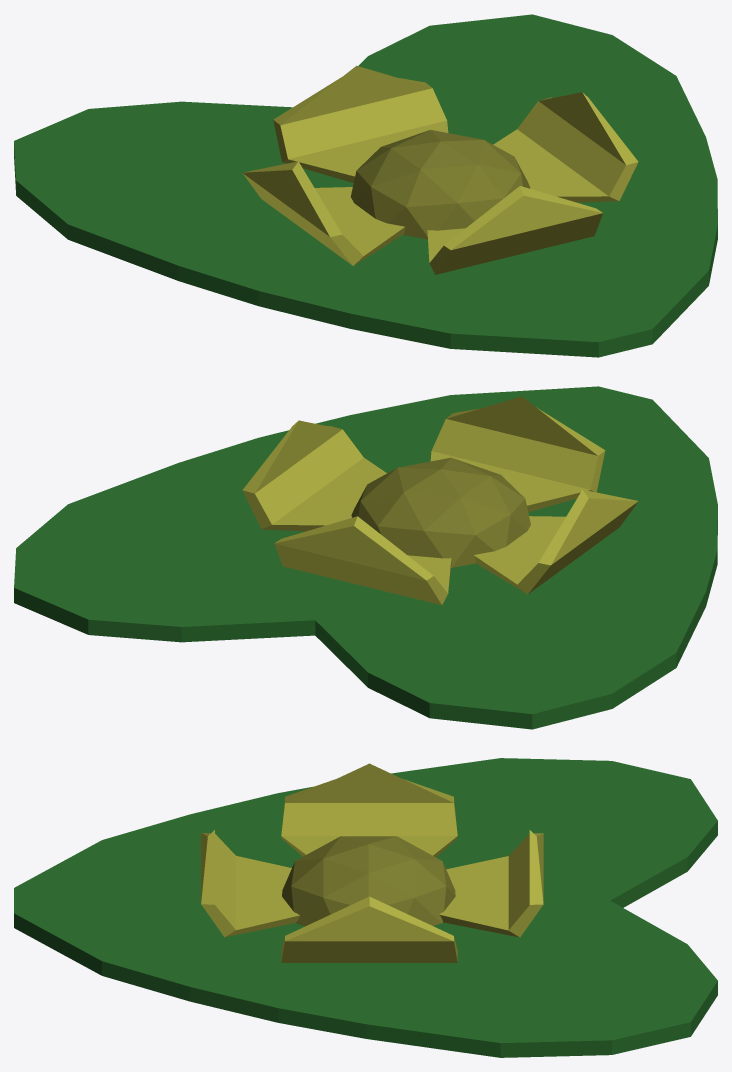
The model's file is Flower_6_Yellow.fbx.
3 views of the same model, one above another, from view 1: azimuth 30°, elevation 25°; view 2: azimuth 150°, elevation 25°; view 3: azimuth 270°, elevation 25° (orthographic). The views are drawn at different scales.
Visible parts, largest first — view 1: Flower_6_Yellow_Part_1, Flower_6_Yellow_Part_2, Flower_6_Yellow_Part_3; view 2: Flower_6_Yellow_Part_1, Flower_6_Yellow_Part_2, Flower_6_Yellow_Part_3; view 3: Flower_6_Yellow_Part_1, Flower_6_Yellow_Part_2, Flower_6_Yellow_Part_3.
Part boxes in pixels (left/top/right/bottom): Flower_6_Yellow_Part_1: left=14, top=14, right=717, bottom=357; Flower_6_Yellow_Part_2: left=242, top=65, right=638, bottom=274; Flower_6_Yellow_Part_3: left=350, top=130, right=530, bottom=239; Flower_6_Yellow_Part_1: left=14, top=386, right=717, bottom=729; Flower_6_Yellow_Part_2: left=242, top=396, right=638, bottom=605; Flower_6_Yellow_Part_3: left=351, top=457, right=530, bottom=567; Flower_6_Yellow_Part_1: left=14, top=758, right=717, bottom=1057; Flower_6_Yellow_Part_2: left=201, top=763, right=543, bottom=962; Flower_6_Yellow_Part_3: left=282, top=836, right=455, bottom=926.
Bounding box in the file's own units: 76.67 × 10.7 × 80.
